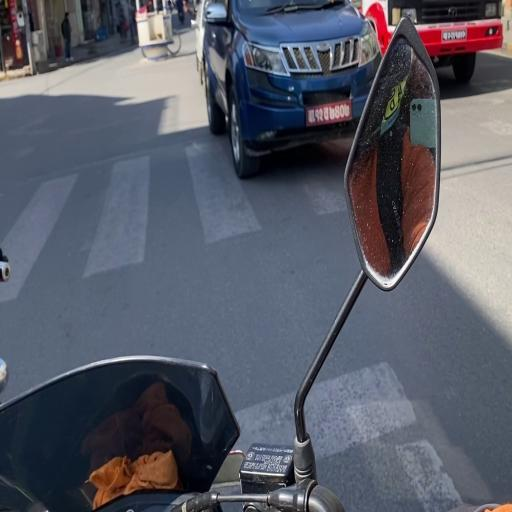license_plate: (304, 96, 353, 127)
